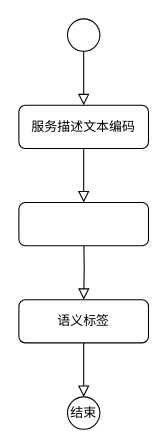
This 167x448 diagram has some shape labels left out. The shapes that lost their labels are listed below. From the top down, each one's centre as x and y in pixels, then its label:
At [83,34]: "开始".
At [83,223]: "多分类模型输出预测".
